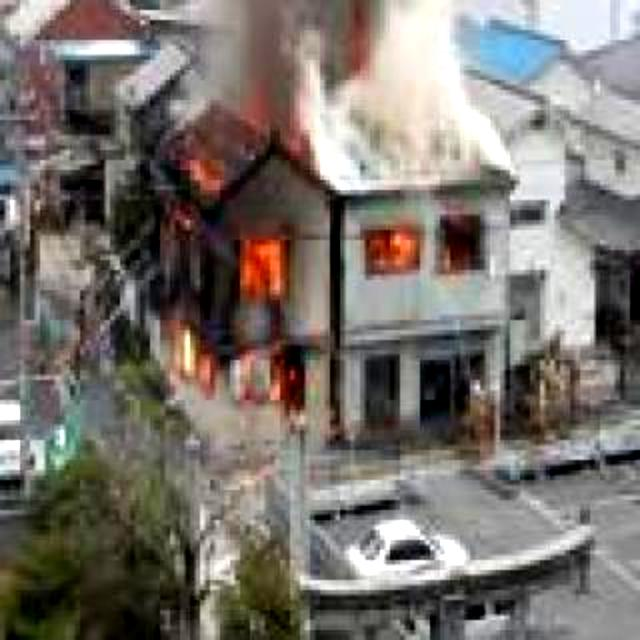fire: (172, 322, 215, 394), (242, 239, 288, 299), (364, 229, 420, 274)
smoke: (211, 0, 465, 171)
